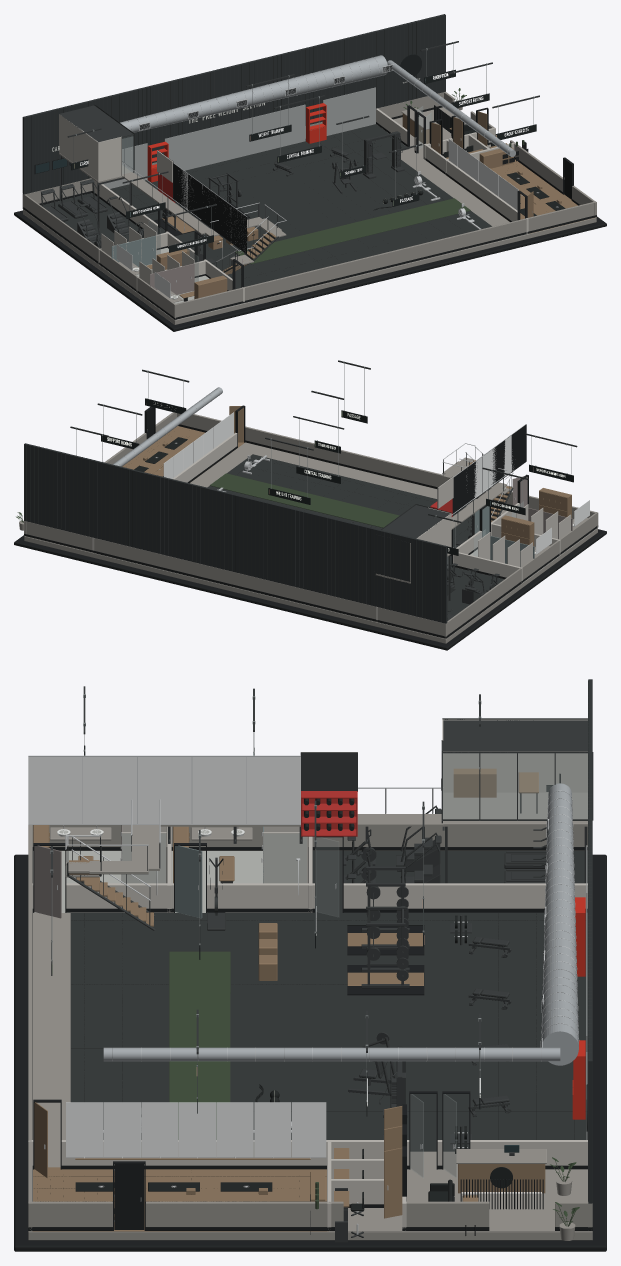
The model's file is core-culture-gym.glb.
3 views of the same model, one above another, from view 1: azimuth 30°, elevation 25°; view 2: azimuth 150°, elevation 25°; view 3: azimuth 270°, elevation 25° (orthographic). The views are drawn at different scales.
Visible parts, largest first — view 1: CC_architecture, CC_signage; view 2: CC_architecture, CC_signage; view 3: CC_architecture, CC_signage.
Part boxes in pixels (bbox=[...]): CC_architecture: bbox=[14, 14, 606, 331]; CC_signage: bbox=[67, 41, 539, 252]; CC_architecture: bbox=[14, 387, 606, 650]; CC_signage: bbox=[70, 360, 577, 555]; CC_architecture: bbox=[14, 679, 606, 1251]; CC_signage: bbox=[50, 686, 481, 1116].
Bounding box in the file's own units: 30.59 × 8.02 × 19.2.
42 materials, 2 textured.
